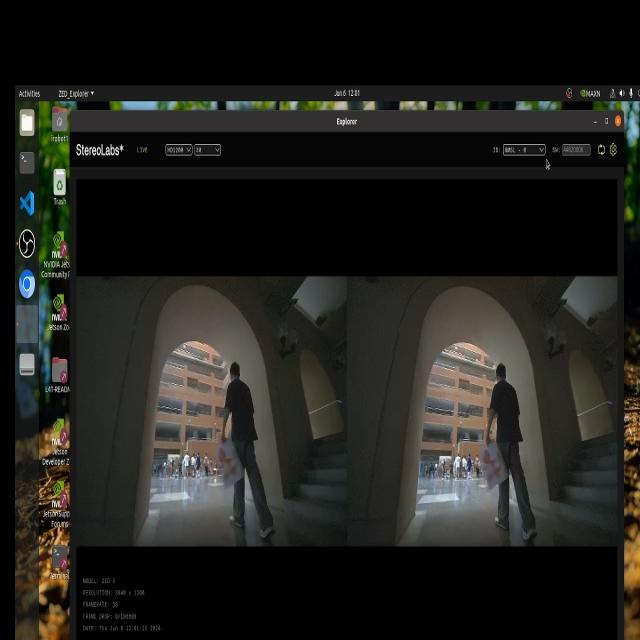red: (481, 449, 507, 487), (219, 446, 236, 486)
